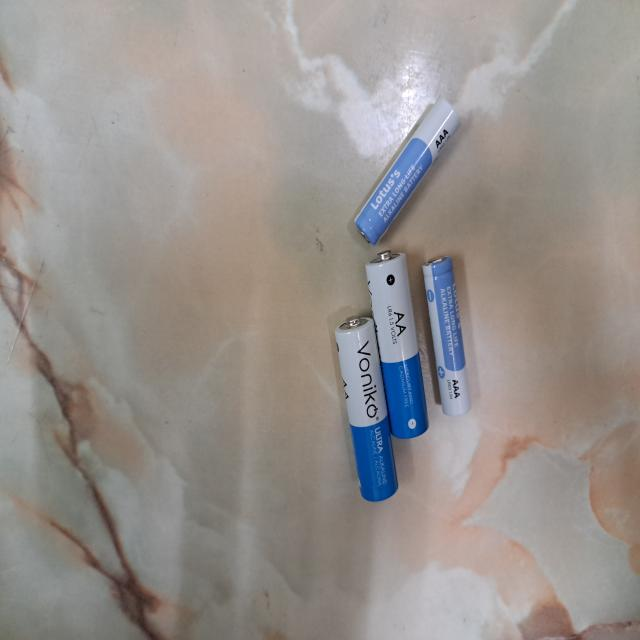battery: (354, 94, 458, 250), (365, 250, 430, 441), (336, 314, 400, 502), (421, 255, 472, 418)
